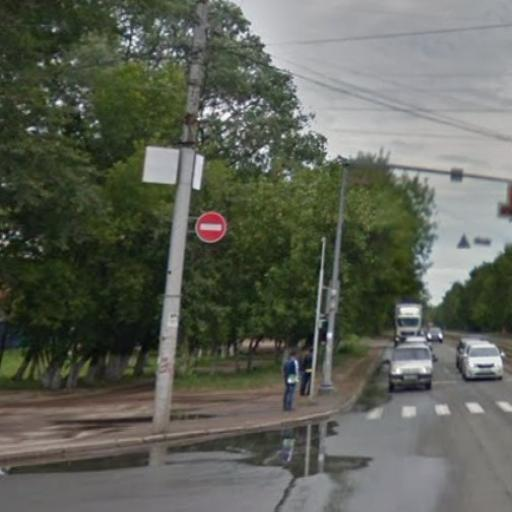traffic_sign: (195, 209, 229, 248)
